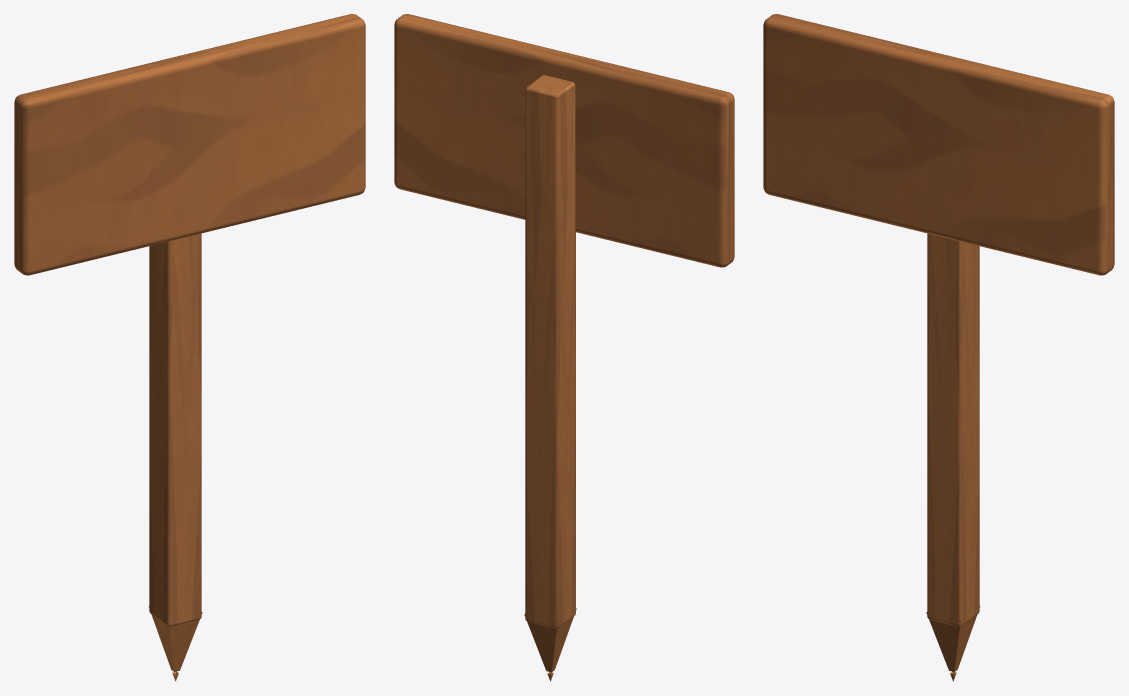
File: Sand_Sign_01.fbx
The picture shows the model from 3 angles, left to right: view 1: azimuth 30°, elevation 25°; view 2: azimuth 150°, elevation 25°; view 3: azimuth 330°, elevation 25°; orthographic projection. The views are drawn at different scales.
Visible parts, largest first — view 1: Sand_Sign_01_Mesh; view 2: Sand_Sign_01_Mesh; view 3: Sand_Sign_01_Mesh.
Part boxes in pixels (box(x1,y1,x2,y2)): Sand_Sign_01_Mesh: box(14, 14, 365, 681); Sand_Sign_01_Mesh: box(394, 14, 734, 681); Sand_Sign_01_Mesh: box(763, 14, 1114, 681).
Size of the model in its own units: 0.94 by 1.66 by 0.1455.
